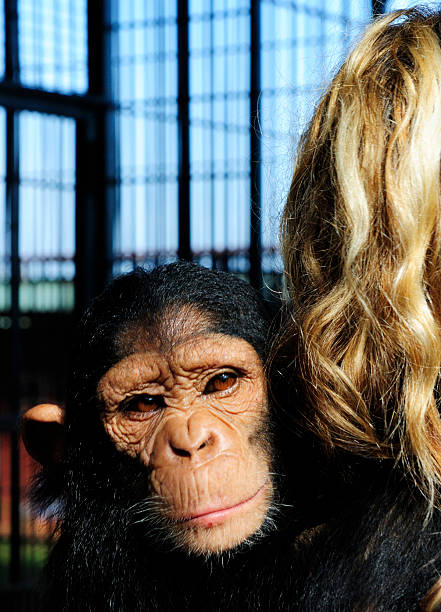chimpanzee: (10, 263, 318, 593)
